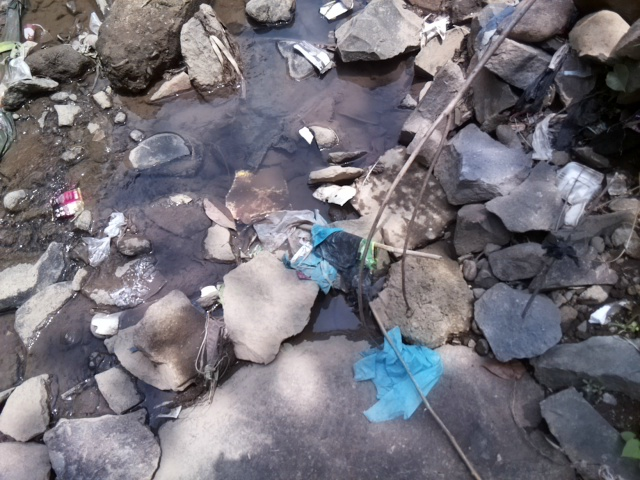Sampah_Plastik: (265, 211, 388, 304), (353, 325, 445, 427), (51, 183, 84, 222)
